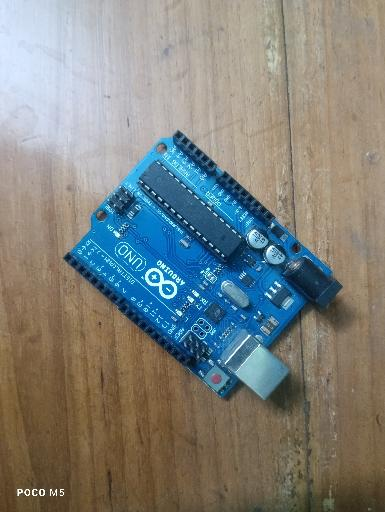Arduino: (63, 129, 343, 403)
